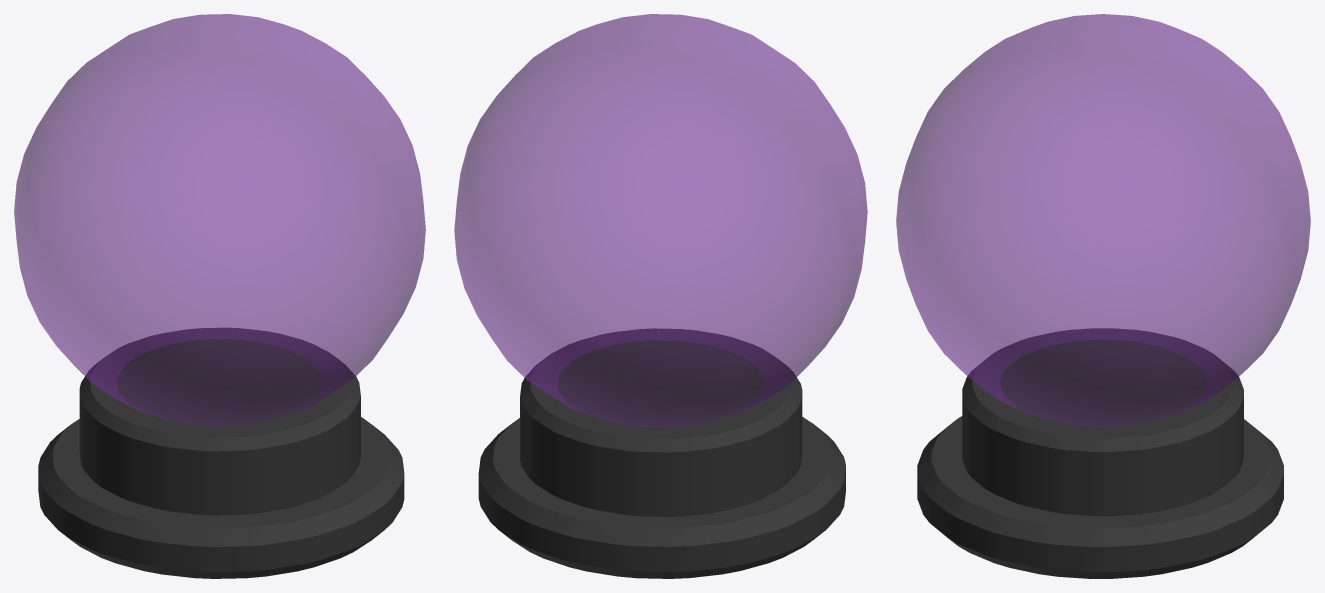
The model's file is crystalball.fbx.
3 renders of one model, left to right at view 1: azimuth 30°, elevation 25°; view 2: azimuth 150°, elevation 25°; view 3: azimuth 270°, elevation 25°, orthographic.
Visible parts, largest first — view 1: pSphere1, pCylinder1, pCylinder2; view 2: pSphere1, pCylinder1, pCylinder2; view 3: pSphere1, pCylinder1, pCylinder2.
Boxes of the visible parts, x1,y1,x2,y2 form: pSphere1: (14, 14, 425, 425); pCylinder1: (79, 328, 360, 515); pCylinder2: (38, 417, 404, 578); pSphere1: (454, 14, 867, 427); pCylinder1: (520, 328, 802, 516); pCylinder2: (478, 417, 845, 578); pSphere1: (896, 14, 1310, 426); pCylinder1: (962, 328, 1243, 515); pCylinder2: (917, 416, 1283, 578).
Size of the model in its own units: 1.1 by 1.39 by 1.1.
